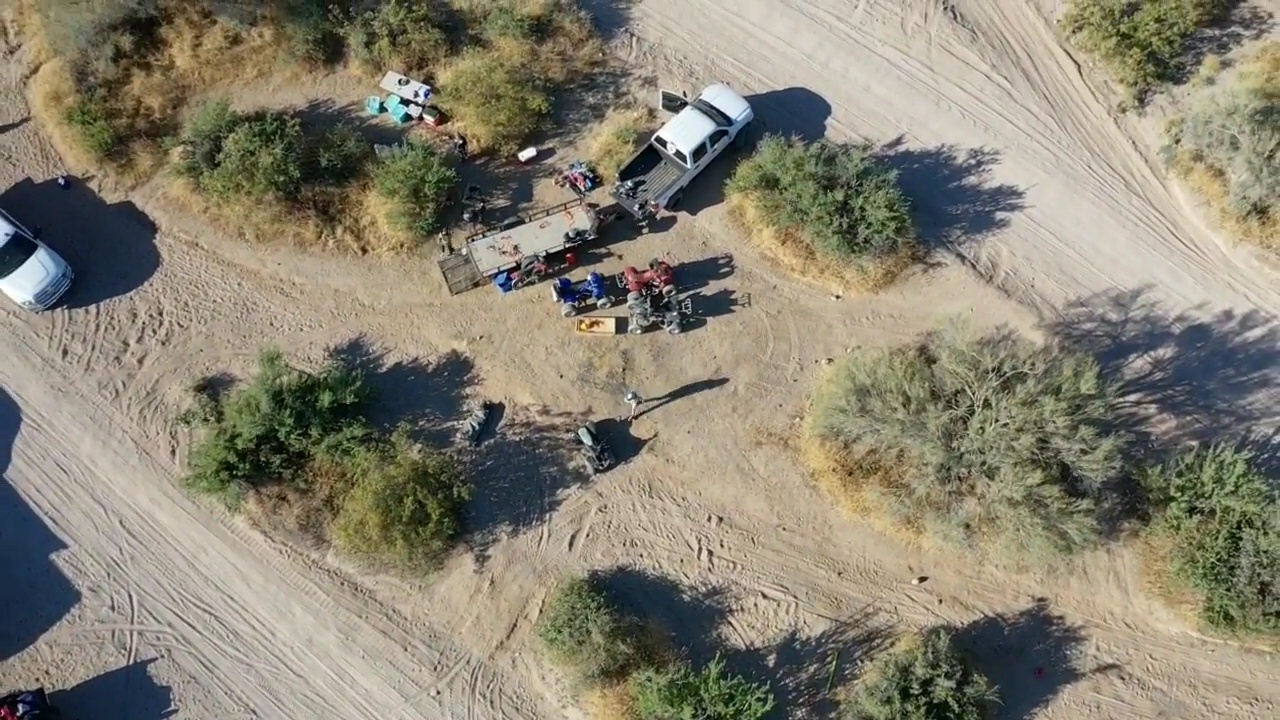araba: (1, 194, 76, 314)
insan: (625, 385, 645, 419)
kamyonet: (610, 76, 758, 222)
